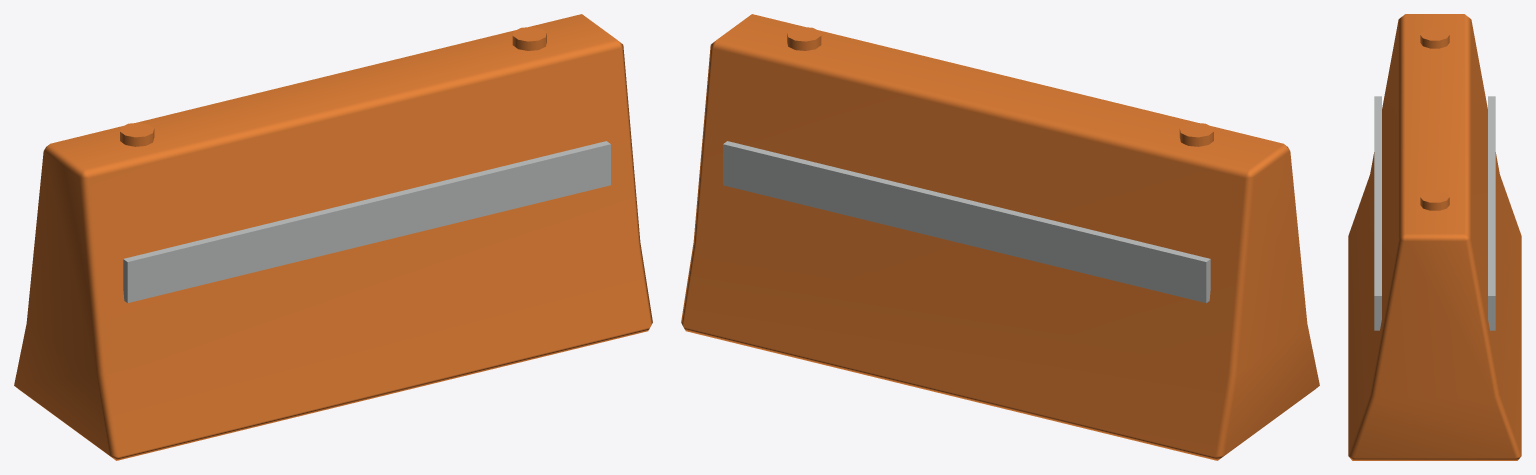
File: St_WaterBarrier_Orange.fbx
3 views of the same model, side by side, from view 1: azimuth 30°, elevation 25°; view 2: azimuth 150°, elevation 25°; view 3: azimuth 270°, elevation 25° (orthographic). The views are drawn at different scales.
Parts seen in each view (by area): view 1: St_WaterBarrier_Orange_LOD0; view 2: St_WaterBarrier_Orange_LOD0; view 3: St_WaterBarrier_Orange_LOD0.
Boxes of the visible parts, x1,y1,x2,y2 form: St_WaterBarrier_Orange_LOD0: (14,14,652,460); St_WaterBarrier_Orange_LOD0: (681,14,1319,460); St_WaterBarrier_Orange_LOD0: (1348,14,1521,460).
Size of what is drawn, in the model's own units: 1.8 by 0.88 by 0.5878.
